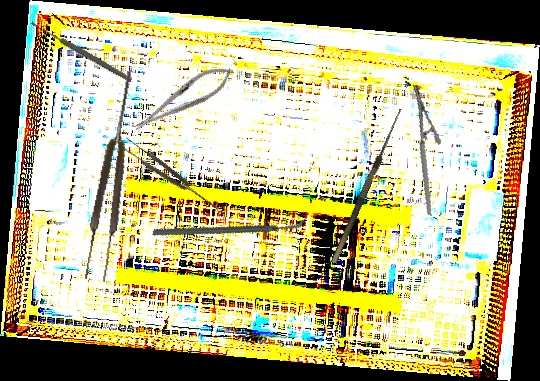Chopper: (151, 168, 308, 286)
Hook Surgical: (322, 104, 405, 264)
Needle Holder: (384, 84, 460, 216), (128, 57, 239, 140)
Surgical Spoon: (29, 19, 134, 84)
Tissue Forceps: (80, 69, 145, 283), (119, 135, 223, 217)
